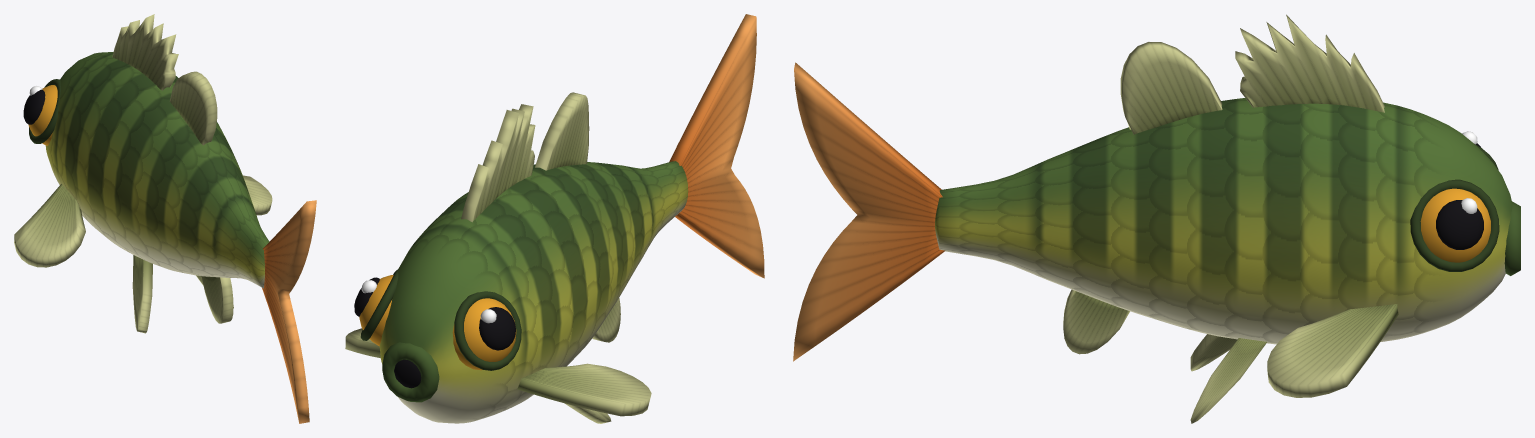
Rendered from Perch.glb.
The picture shows the model from 3 angles, left to right: view 1: azimuth 30°, elevation 25°; view 2: azimuth 150°, elevation 25°; view 3: azimuth 270°, elevation 25°; orthographic projection. The views are drawn at different scales.
Parts seen in each view (by area): view 1: Perch; view 2: Perch; view 3: Perch.
Part boxes in pixels (box(x1,y1,x2,y2)): Perch: box(14, 14, 316, 423); Perch: box(345, 14, 764, 423); Perch: box(793, 14, 1520, 423).
Bounding box in the file's own units: 1.33 × 1.45 × 2.5.
1 material, 1 textured.
